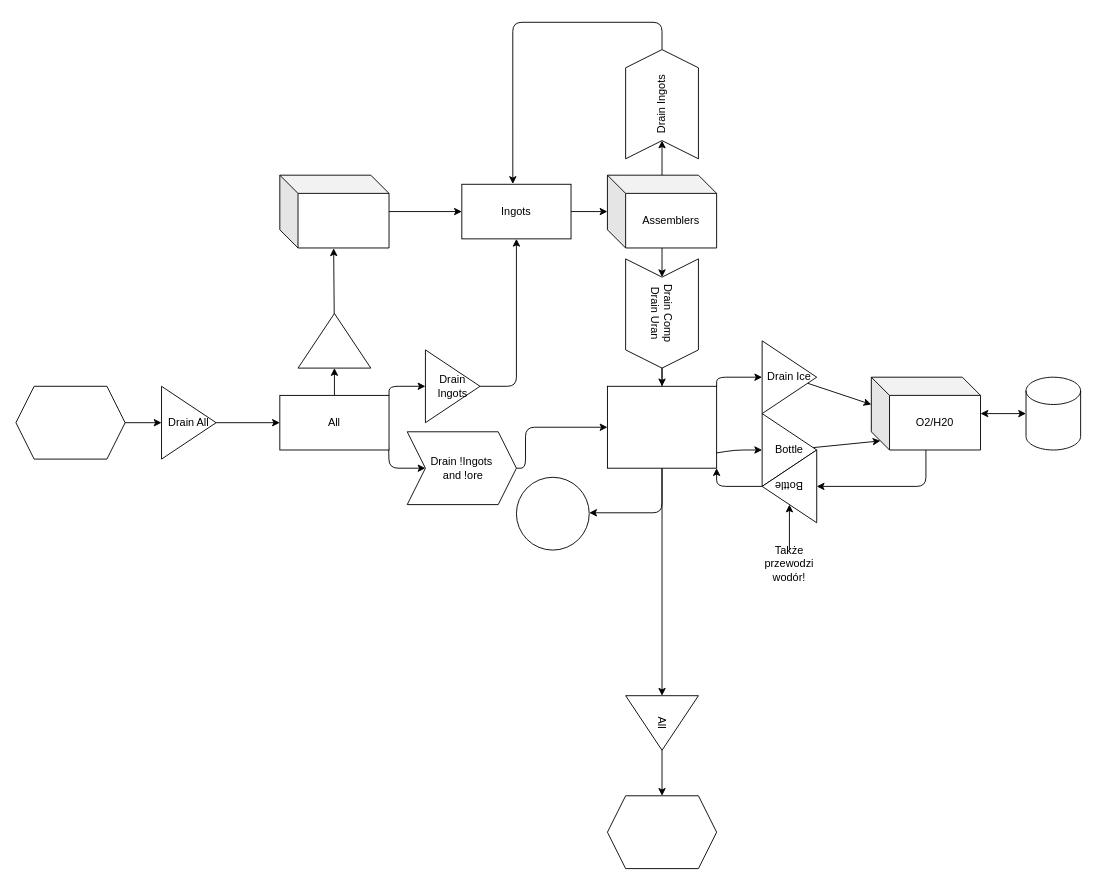
This 1097x885 diagram has some shape labels left out. The box of each missing label's shape, as (x1, y1, x2, y2) in pixels:
Components Tools Ammo/Weapons Bottles Ice Uranium Ingots: (607, 385, 717, 468)
Connector Wyrzut: (607, 795, 717, 869)
Connector Zrzut: (15, 385, 125, 459)
Drain Ore: (297, 313, 371, 368)
Reactors: (516, 476, 589, 550)
Refinerie: (279, 174, 389, 248)
Tanks: (1025, 376, 1081, 450)
